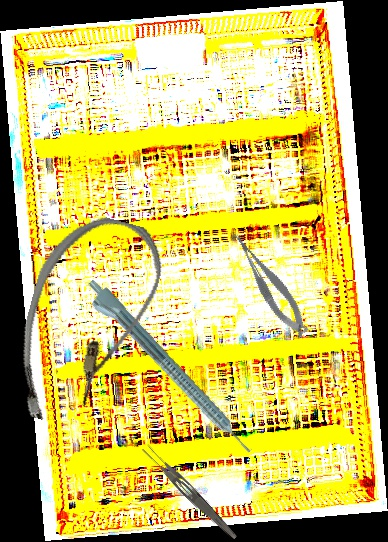Cannula: (2, 204, 172, 440)
Dressing Forceps: (139, 442, 242, 542)
Handpiece: (77, 275, 256, 465)
Micro Scissor: (229, 223, 313, 345)
